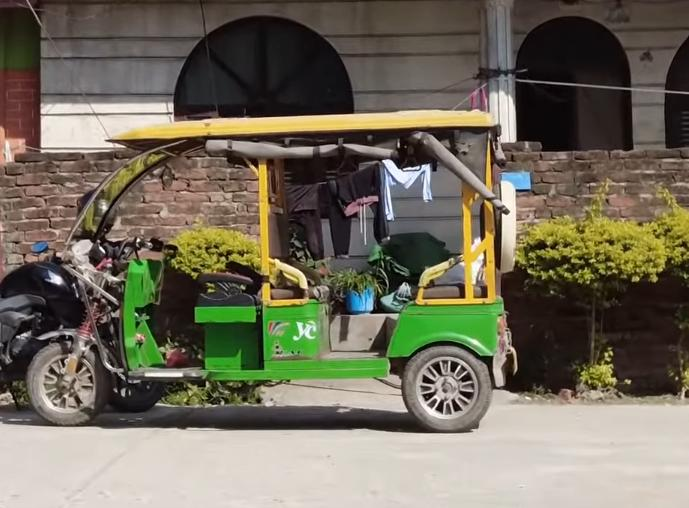e-rickshaw: (37, 92, 525, 442)
